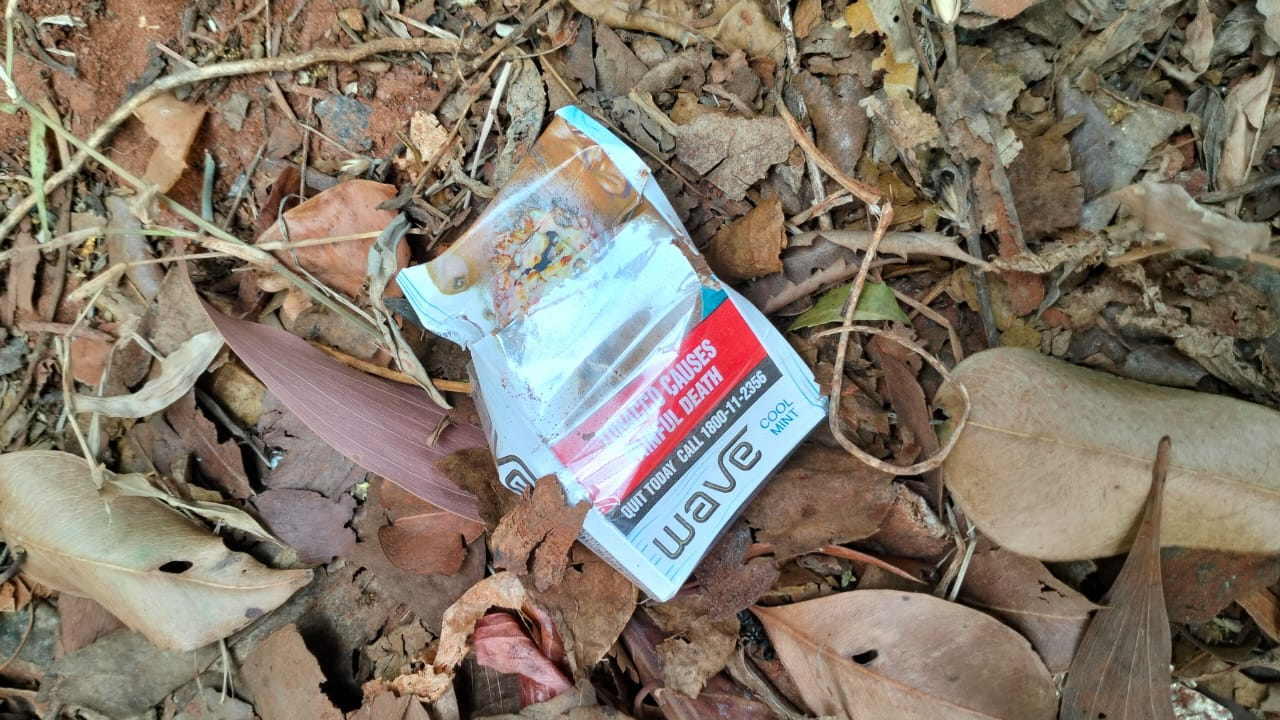paper: (426, 76, 767, 591)
